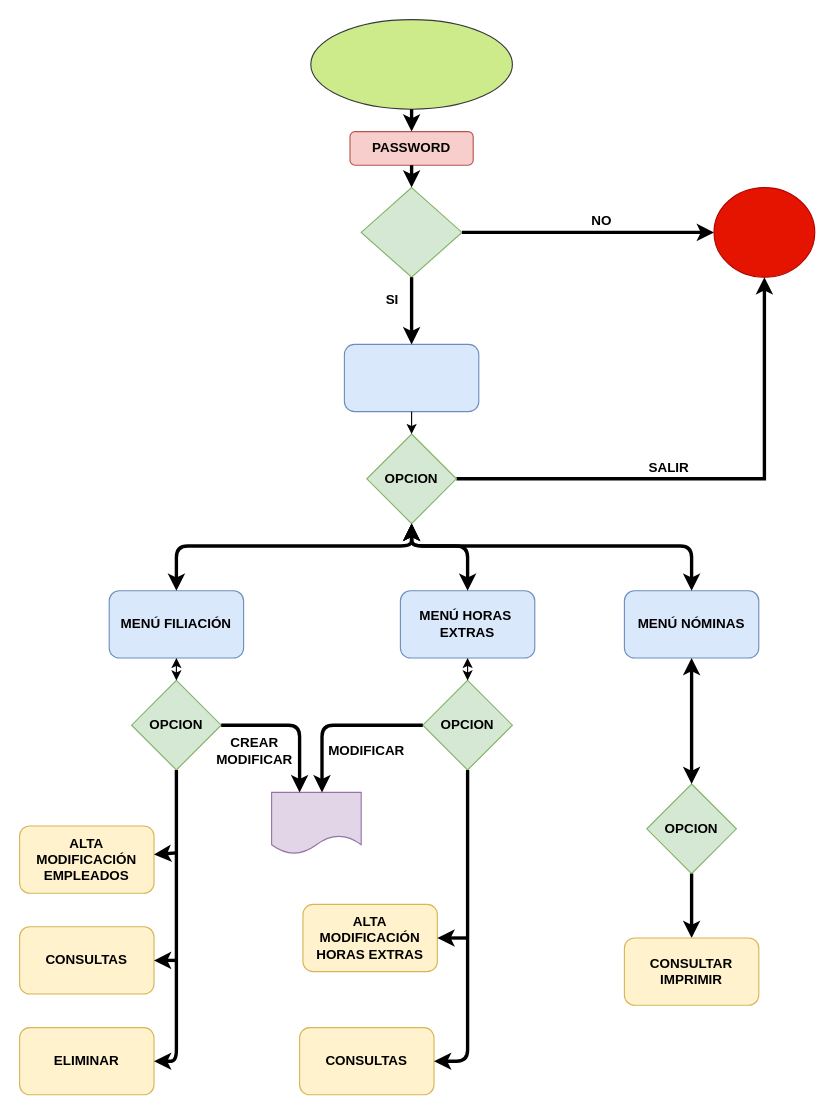
Some shapes in this 834 by 1114 pixel diagram are drawn without their labels. The box of each missing label's shape, as (x1, y1, x2, y2) in pixels:
FICHERO .DAT: (270, 791, 361, 854)
FIN: (713, 186, 815, 277)
INICIO: (310, 18, 512, 109)
MENU PRICIPAL: (343, 343, 479, 412)
PASSWORD CORRECTA: (360, 186, 462, 277)
